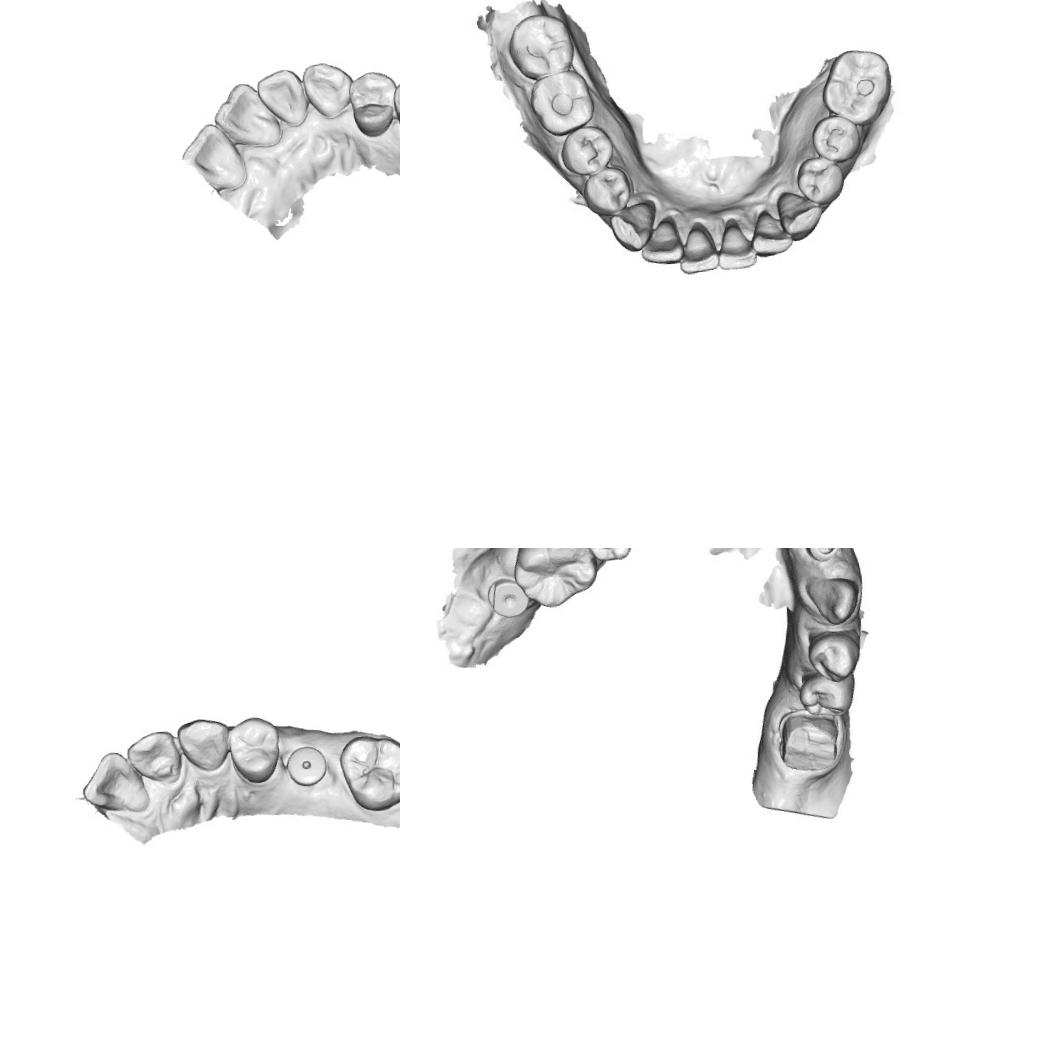canine: (176, 714, 232, 776), (300, 58, 354, 122), (804, 572, 863, 628), (774, 186, 826, 243), (604, 199, 655, 256)
crown: (772, 708, 844, 776)
implant: (483, 570, 534, 622), (282, 742, 330, 790), (801, 548, 841, 562)
incisor: (209, 78, 284, 152), (178, 119, 250, 195), (77, 748, 153, 818), (123, 724, 182, 788), (253, 66, 308, 130), (714, 214, 760, 274), (673, 216, 719, 276), (634, 212, 682, 268), (748, 205, 795, 259)
molar: (818, 45, 895, 129), (334, 726, 400, 816), (503, 5, 575, 81), (513, 548, 599, 610), (527, 68, 598, 140)
premolar: (224, 711, 284, 788), (345, 66, 400, 139), (580, 158, 636, 217), (804, 628, 862, 684), (557, 122, 614, 178), (807, 112, 862, 168), (796, 671, 856, 722), (795, 154, 846, 206), (575, 548, 637, 565), (389, 73, 400, 143)
